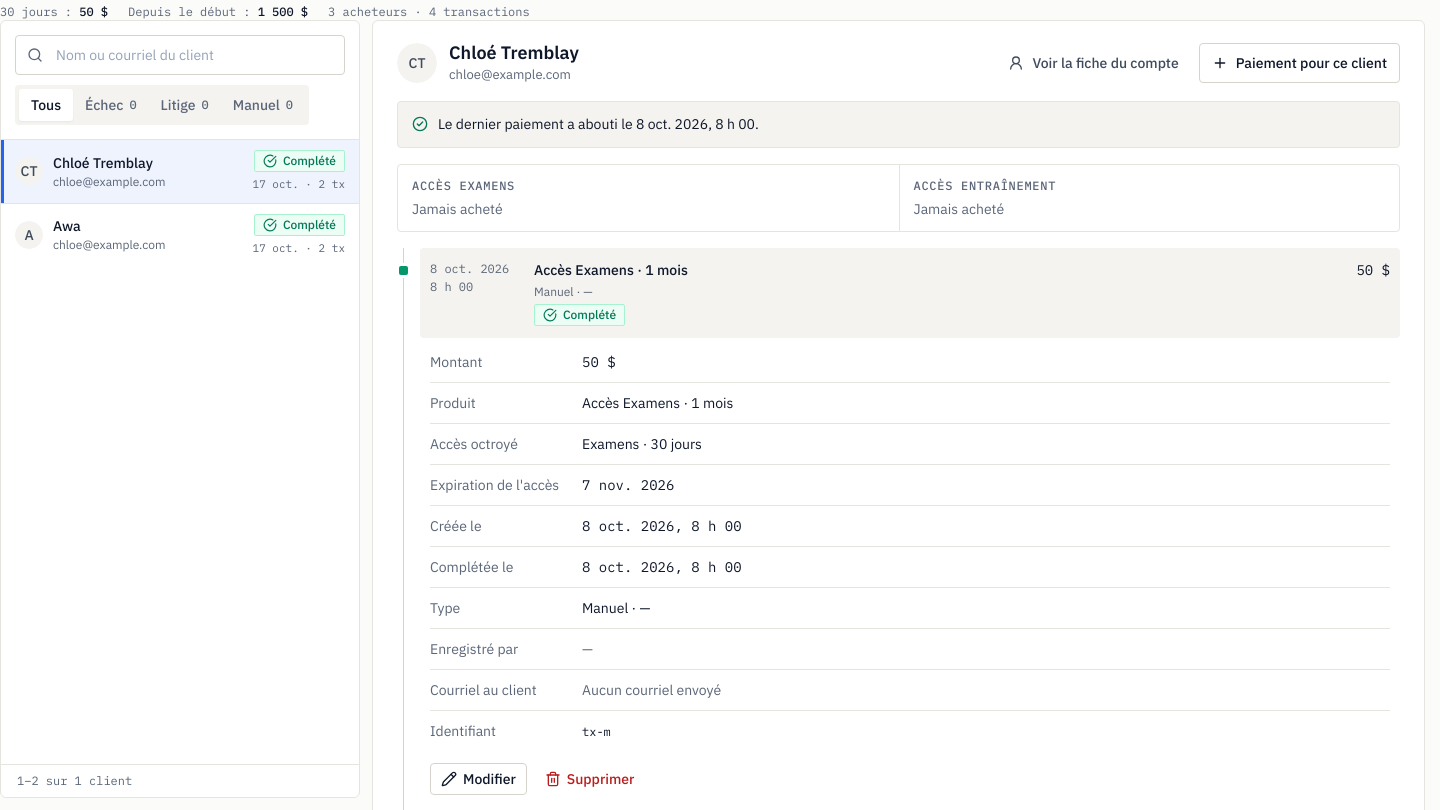
Scenario: TransactionsClient — écritures sur un paiement manuel › modification enregistrée : toast « Paiement modifié »
(page scrolled)
Click the button "Modifier": (478, 779) [430,763,527,795]
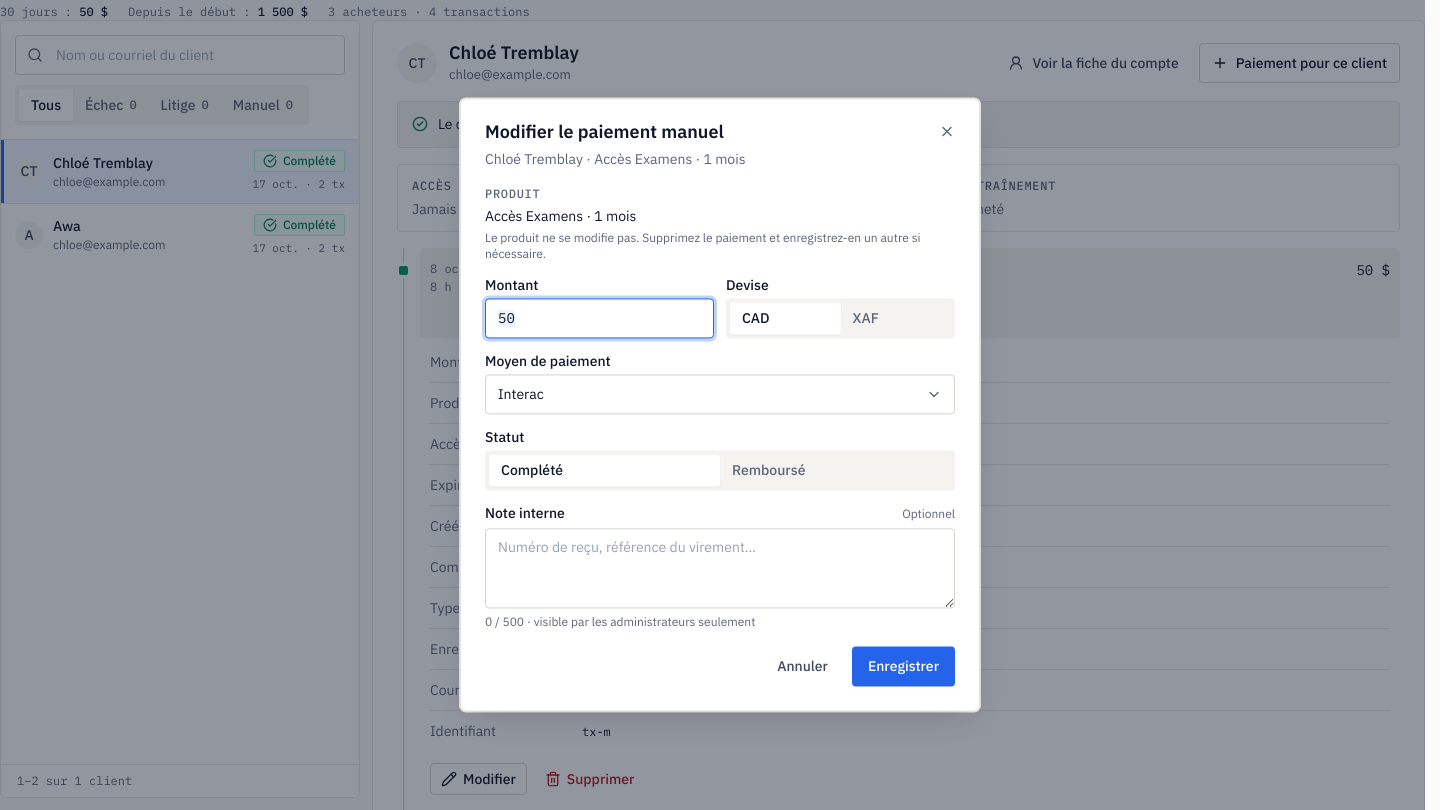
Click the button "Enregistrer": (903, 667) [852,647,955,687]
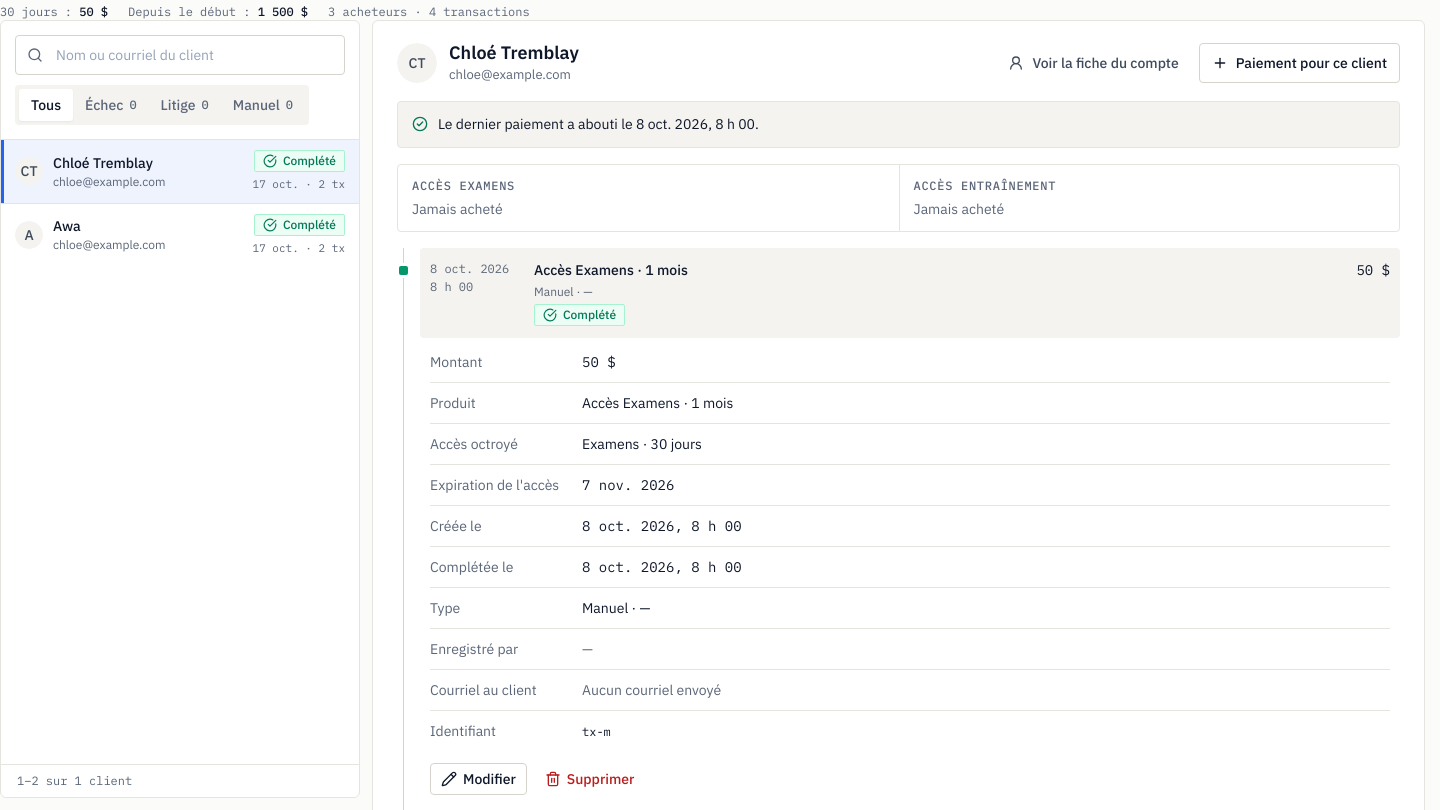
Check: the dialog is gone
